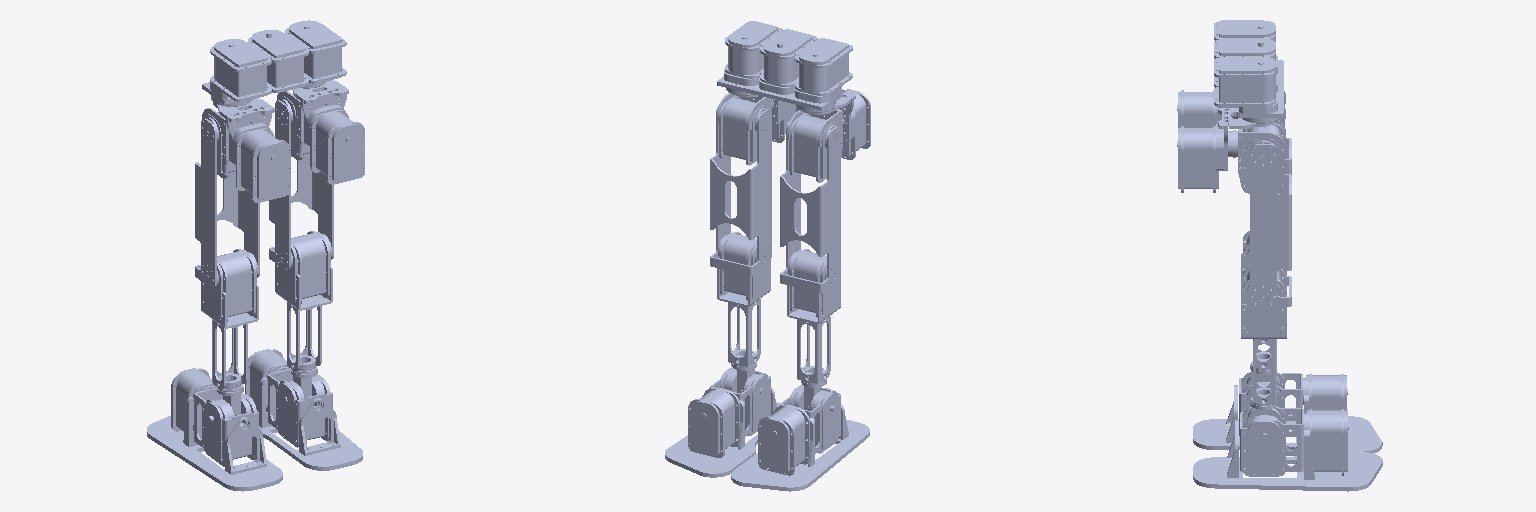
URDF robot description (UXALeg):
<?xml version="1.0"?>
<robot
  name="UXALeg">
  <link
    name="base_link_112210">
    <inertial>
      <origin
        xyz="-0.00691973742364693 -0.00720539335470267 -0.319392369133681"
        rpy="0 0 0" />
      <mass
        value="6.36839592430363" />
      <inertia
        ixx="0.315913715519811"
        ixy="0.000575539891669698"
        ixz="0.00272542117602269"
        iyy="0.317627543393465"
        iyz="0.0531323612424899"
        izz="0.0468174334082142" />
    </inertial>
    <visual>
      <origin
        xyz="0 0 0"
        rpy="0 0 0" />
      <geometry>
        <mesh
          filename="package://UXALeg/meshes/base_link_112210.STL" />
      </geometry>
      <material
        name="">
        <color
          rgba="0.792156862745098 0.819607843137255 0.933333333333333 1" />
      </material>
    </visual>
    <collision>
      <origin
        xyz="0 0 0"
        rpy="0 0 0" />
      <geometry>
        <mesh
          filename="package://UXALeg/meshes/base_link_112210.STL" />
      </geometry>
    </collision>
  </link>

<link name="world"/>
<joint name="base_joint" type="fixed">
  <origin xyz="0 0 1" />
  <parent link="world"/>
  <child link="base_link_112210"/>
</joint>

  <link
    name="Link911">
    <inertial>
      <origin
        xyz="-0.259392369133681 0.0639197374236465 0.00686539335471209"
        rpy="0 0 0" />
      <mass
        value="6.36839592430363" />
      <inertia
        ixx="0.0468174334082142"
        ixy="-0.00272542117602307"
        ixz="-0.0531323612424899"
        iyy="0.315913715519811"
        iyz="0.000575539891669624"
        izz="0.317627543393465" />
    </inertial>
    <visual>
      <origin
        xyz="0 0 0"
        rpy="0 0 0" />
      <geometry>
        <mesh
          filename="package://UXALeg/meshes/Link911.STL" />
      </geometry>
      <material
        name="">
        <color
          rgba="0.792156862745098 0.819607843137255 0.933333333333333 1" />
      </material>
    </visual>
    <collision>
      <origin
        xyz="0 0 0"
        rpy="0 0 0" />
      <geometry>
        <mesh
          filename="package://UXALeg/meshes/Link911.STL" />
      </geometry>
    </collision>
  </link>

  <joint
    name="Joint11"
    type="revolute">
    <origin
      xyz="0.0569999999999999 -0.000339999999990568 -0.0600000000000002"
      rpy="1.5707963267949 -1.5707963267949 0" />
    <parent
      link="base_link_112210" />
    <child
      link="Link911" />
    <axis
      xyz="1 0 0" />
 <limit    upper="0.5" lower="-.5"   effort="2"  velocity="2" />
  </joint>
  <link
    name="Link79">
    <inertial>
      <origin
        xyz="-0.0638198916139288 -0.195497369133489 0.00686539335471209"
        rpy="0 0 0" />
      <mass
        value="6.36839592430363" />
      <inertia
        ixx="0.315913715519811"
        ixy="0.00272542117602269"
        ixz="-0.000575539891669698"
        iyy="0.0468174334082142"
        iyz="-0.0531323612424899"
        izz="0.317627543393465" />
    </inertial>
    <visual>
      <origin
        xyz="0 0 0"
        rpy="0 0 0" />
      <geometry>
        <mesh
          filename="package://UXALeg/meshes/Link79.STL" />
      </geometry>
      <material
        name="">
        <color
          rgba="0.792156862745098 0.819607843137255 0.933333333333333 1" />
      </material>
    </visual>
    <collision>
      <origin
        xyz="0 0 0"
        rpy="0 0 0" />
      <geometry>
        <mesh
          filename="package://UXALeg/meshes/Link79.STL" />
      </geometry>
    </collision>
  </link>
  <joint
    name="Joint9"
    type="revolute">
    <origin
      xyz="-0.0638950000001913 9.98458097179952E-05 0"
      rpy="0 0 -1.5707963267949" />
    <parent
      link="Link911" />
    <child
      link="Link79" />
    <axis
      xyz="0 0 1" />
 <limit    upper="0.5" lower="-.5"   effort="2"  velocity="2" />
  </joint>
  <link
    name="Link57">
    <inertial>
      <origin
        xyz="-0.0638198916139287 0.00686539335471211 0.195497369133489"
        rpy="0 0 0" />
      <mass
        value="6.36839592430363" />
      <inertia
        ixx="0.315913715519811"
        ixy="-0.0005755398916697"
        ixz="-0.00272542117602273"
        iyy="0.317627543393465"
        iyz="0.0531323612424899"
        izz="0.0468174334082142" />
    </inertial>
    <visual>
      <origin
        xyz="0 0 0"
        rpy="0 0 0" />
      <geometry>
        <mesh
          filename="package://UXALeg/meshes/Link57.STL" />
      </geometry>
      <material
        name="">
        <color
          rgba="0.792156862745098 0.819607843137255 0.933333333333333 1" />
      </material>
    </visual>
    <collision>
      <origin
        xyz="0 0 0"
        rpy="0 0 0" />
      <geometry>
        <mesh
          filename="package://UXALeg/meshes/Link57.STL" />
      </geometry>
    </collision>
  </link>
  <joint
    name="Joint7"
    type="revolute">
    <origin
      xyz="0 0 0"
      rpy="1.5707963267949 0 0" />
    <parent
      link="Link79" />
    <child
      link="Link57" />
    <axis
      xyz="1 0 0" />
 <limit    upper="0.5" lower="-.5"   effort="2"  velocity="2" />
  </joint>
  <link
    name="Link35">
    <inertial>
      <origin
        xyz="0.0145026308675864 0.0638198916139283 0.01116539335561"
        rpy="0 0 0" />
      <mass
        value="6.36839592430363" />
      <inertia
        ixx="0.0468174334082142"
        ixy="-0.00272542117602273"
        ixz="-0.0531323612424899"
        iyy="0.315913715519811"
        iyz="0.0005755398916697"
        izz="0.317627543393465" />
    </inertial>
    <visual>
      <origin
        xyz="0 0 0"
        rpy="0 0 0" />
      <geometry>
        <mesh
          filename="package://UXALeg/meshes/Link35.STL" />
      </geometry>
      <material
        name="">
        <color
          rgba="0.792156862745098 0.819607843137255 0.933333333333333 1" />
      </material>
    </visual>
    <collision>
      <origin
        xyz="0 0 0"
        rpy="0 0 0" />
      <geometry>
        <mesh
          filename="package://UXALeg/meshes/Link35.STL" />
      </geometry>
    </collision>
  </link>
  <joint
    name="Joint5"
    type="revolute">
    <origin
      xyz="0 -0.00430000000089791 0.210000000001076"
      rpy="1.5707963267949 1.5707963267949 3.141592654" />
    <parent
      link="Link57" />
    <child
      link="Link35" />
    <axis
      xyz="0 -1 0" />
 <limit    upper="0.5" lower="-.5"   effort="2"  velocity="2" />
  </joint>
  <link
    name="Link13">
    <inertial>
      <origin
        xyz="0.222502630867693 -0.0638198916139281 -0.0116638313797236"
        rpy="0 0 0" />
      <mass
        value="6.36839592430363" />
      <inertia
        ixx="0.0468174334082142"
        ixy="0.00272542117602272"
        ixz="0.0531323612424899"
        iyy="0.315913715519811"
        iyz="0.0005755398916697"
        izz="0.317627543393465" />
    </inertial>
    <visual>
      <origin
        xyz="0 0 0"
        rpy="0 0 0" />
      <geometry>
        <mesh
          filename="package://UXALeg/meshes/Link13.STL" />
      </geometry>
      <material
        name="">
        <color
          rgba="0.792156862745098 0.819607843137255 0.933333333333333 1" />
      </material>
    </visual>
    <collision>
      <origin
        xyz="0 0 0"
        rpy="0 0 0" />
      <geometry>
        <mesh
          filename="package://UXALeg/meshes/Link13.STL" />
      </geometry>
    </collision>
  </link>
  <joint
    name="Joint3"
    type="revolute">
    <origin
      xyz="-0.208000000000107 0 -0.000498438024113588"
      rpy="3.14159265358979 1.20370621524202E-31 -1.04404871487976E-47" />
    <parent
      link="Link35" />
    <child
      link="Link13" />
    <axis
      xyz="0 1 0" />
 <limit    upper="0.5" lower="-.5"   effort="2"  velocity="2" />
  </joint>
  <link
    name="Link1">
    <inertial>
      <origin
        xyz="-0.0638198916139281 0.222502630867693 0.0116638313797236"
        rpy="0 0 0" />
      <mass
        value="6.36839592430363" />
      <inertia
        ixx="0.315913715519811"
        ixy="0.00272542117602273"
        ixz="-0.0005755398916697"
        iyy="0.0468174334082142"
        iyz="-0.0531323612424899"
        izz="0.317627543393465" />
    </inertial>
    <visual>
      <origin
        xyz="0 0 0"
        rpy="0 0 0" />
      <geometry>
        <mesh
          filename="package://UXALeg/meshes/Link1.STL" />
      </geometry>
      <material
        name="">
        <color
          rgba="0.792156862745098 0.819607843137255 0.933333333333333 1" />
      </material>
    </visual>
    <collision>
      <origin
        xyz="0 0 0"
        rpy="0 0 0" />
      <geometry>
        <mesh
          filename="package://UXALeg/meshes/Link1.STL" />
      </geometry>
    </collision>
  </link>
  <joint
    name="Joint1"
    type="revolute">
    <origin
      xyz="0 0 0"
      rpy="-3.14159265358979 -8.67361737988404E-17 1.5707963267949" />
    <parent
      link="Link13" />
    <child
      link="Link1" />
    <axis
      xyz="0 0 1" />
 <limit    upper="0.5" lower="-.5"   effort="2"  velocity="2" />
  </joint>
  <link
    name="Link810">
    <inertial>
      <origin
        xyz="-0.259392369133681 -0.0500802625763536 0.00686539335471307"
        rpy="0 0 0" />
      <mass
        value="6.36839592430363" />
      <inertia
        ixx="0.0468174334082142"
        ixy="-0.0027254211760231"
        ixz="-0.0531323612424899"
        iyy="0.315913715519811"
        iyz="0.000575539891669625"
        izz="0.317627543393465" />
    </inertial>
    <visual>
      <origin
        xyz="0 0 0"
        rpy="0 0 0" />
      <geometry>
        <mesh
          filename="package://UXALeg/meshes/Link810.STL" />
      </geometry>
      <material
        name="">
        <color
          rgba="0.792156862745098 0.819607843137255 0.933333333333333 1" />
      </material>
    </visual>
    <collision>
      <origin
        xyz="0 0 0"
        rpy="0 0 0" />
      <geometry>
        <mesh
          filename="package://UXALeg/meshes/Link810.STL" />
      </geometry>
    </collision>
  </link>
  <joint
    name="Joint10"
    type="revolute">
    <origin
      xyz="-0.0570000000000001 -0.000339999999989604 -0.0599999999999996"
      rpy="1.5707963267949 -1.5707963267949 0" />
    <parent
      link="base_link_112210" />
    <child
      link="Link810" />
    <axis
      xyz="1 0 0" />
 <limit    upper="0.5" lower="-.5"   effort="2"  velocity="2" />
  </joint>
  <link
    name="Link68">
    <inertial>
      <origin
        xyz="0.0501801083860709 -0.19549736913349 0.00686539335471307"
        rpy="0 0 0" />
      <mass
        value="6.36839592430363" />
      <inertia
        ixx="0.315913715519811"
        ixy="0.00272542117602273"
        ixz="-0.0005755398916697"
        iyy="0.0468174334082142"
        iyz="-0.0531323612424899"
        izz="0.317627543393465" />
    </inertial>
    <visual>
      <origin
        xyz="0 0 0"
        rpy="0 0 0" />
      <geometry>
        <mesh
          filename="package://UXALeg/meshes/Link68.STL" />
      </geometry>
      <material
        name="">
        <color
          rgba="0.792156862745098 0.819607843137255 0.933333333333333 1" />
      </material>
    </visual>
    <collision>
      <origin
        xyz="0 0 0"
        rpy="0 0 0" />
      <geometry>
        <mesh
          filename="package://UXALeg/meshes/Link68.STL" />
      </geometry>
    </collision>
  </link>
  <joint
    name="Joint8"
    type="revolute">
    <origin
      xyz="-0.0638950000001912 9.98458097175581E-05 0"
      rpy="0 0 -1.5707963267949" />
    <parent
      link="Link810" />
    <child
      link="Link68" />
    <axis
      xyz="0 0 1" />
 <limit    upper="0.5" lower="-.5"   effort="2"  velocity="2" />
  </joint>
  <link
    name="Link46">
    <inertial>
      <origin
        xyz="0.0501801083860709 0.00686539335471309 0.19549736913349"
        rpy="0 0 0" />
      <mass
        value="6.36839592430363" />
      <inertia
        ixx="0.315913715519811"
        ixy="-0.000575539891669694"
        ixz="-0.00272542117602272"
        iyy="0.317627543393465"
        iyz="0.0531323612424899"
        izz="0.0468174334082142" />
    </inertial>
    <visual>
      <origin
        xyz="0 0 0"
        rpy="0 0 0" />
      <geometry>
        <mesh
          filename="package://UXALeg/meshes/Link46.STL" />
      </geometry>
      <material
        name="">
        <color
          rgba="0.792156862745098 0.819607843137255 0.933333333333333 1" />
      </material>
    </visual>
    <collision>
      <origin
        xyz="0 0 0"
        rpy="0 0 0" />
      <geometry>
        <mesh
          filename="package://UXALeg/meshes/Link46.STL" />
      </geometry>
    </collision>
  </link>
  <joint
    name="Joint6"
    type="revolute">
    <origin
      xyz="0 0 0"
      rpy="1.5707963267949 0 0" />
    <parent
      link="Link68" />
    <child
      link="Link46" />
    <axis
      xyz="1 0 0" />
 <limit    upper="0.5" lower="-.5"   effort="2"  velocity="2" />
  </joint>
  <link
    name="Link24">
    <inertial>
      <origin
        xyz="0.0501801083860708 0.0145026308675875 0.011165393355615"
        rpy="0 0 0" />
      <mass
        value="6.36839592430363" />
      <inertia
        ixx="0.315913715519811"
        ixy="0.00272542117602271"
        ixz="-0.000575539891669695"
        iyy="0.0468174334082142"
        iyz="-0.0531323612424899"
        izz="0.317627543393465" />
    </inertial>
    <visual>
      <origin
        xyz="0 0 0"
        rpy="0 0 0" />
      <geometry>
        <mesh
          filename="package://UXALeg/meshes/Link24.STL" />
      </geometry>
      <material
        name="">
        <color
          rgba="0.792156862745098 0.819607843137255 0.933333333333333 1" />
      </material>
    </visual>
    <collision>
      <origin
        xyz="0 0 0"
        rpy="0 0 0" />
      <geometry>
        <mesh
          filename="package://UXALeg/meshes/Link24.STL" />
      </geometry>
    </collision>
  </link>
  <joint
    name="Joint4"
    type="revolute">
    <origin
      xyz="0 -0.00430000000090187 0.210000000001077"
      rpy="-1.5707963267949 0 0" />
    <parent
      link="Link46" />
    <child
      link="Link24" />
    <axis
      xyz="1 0 0" />
 <limit    upper="0.5" lower="-.5"   effort="2"  velocity="2" />
  </joint>
  <link
    name="Link02">
    <inertial>
      <origin
        xyz="0.223502630867588 0.0501801083860706 -0.0106669553315073"
        rpy="0 0 0" />
      <mass
        value="6.36839592430363" />
      <inertia
        ixx="0.0468174334082142"
        ixy="0.00272542117602418"
        ixz="0.0531323612424898"
        iyy="0.315913715519811"
        iyz="0.000575539891669747"
        izz="0.317627543393465" />
    </inertial>
    <visual>
      <origin
        xyz="0 0 0"
        rpy="0 0 0" />
      <geometry>
        <mesh
          filename="package://UXALeg/meshes/Link02.STL" />
      </geometry>
      <material
        name="">
        <color
          rgba="0.792156862745098 0.819607843137255 0.933333333333333 1" />
      </material>
    </visual>
    <collision>
      <origin
        xyz="0 0 0"
        rpy="0 0 0" />
      <geometry>
        <mesh
          filename="package://UXALeg/meshes/Link02.STL" />
      </geometry>
    </collision>
  </link>
  <joint
    name="Joint2"
    type="revolute">
    <origin
      xyz="0 -0.209 0.000498438024109114"
      rpy="-3.14159265358977 -1.95000406869207E-29 1.5707963267949" />
    <parent
      link="Link24" />
    <child
      link="Link02" />
    <axis
      xyz="0 1 0" />
 <limit    upper="0.5" lower="-.5"   effort="2"  velocity="2" />
  </joint>
  <link
    name="Link0">
    <inertial>
      <origin
        xyz="-0.0501801083860707 -0.223502630867588 0.0106669553315058"
        rpy="0 0 0" />
      <mass
        value="6.36839592430363" />
      <inertia
        ixx="0.315913715519811"
        ixy="0.00272542117602287"
        ixz="0.000575539891669662"
        iyy="0.0468174334082142"
        iyz="0.0531323612424899"
        izz="0.317627543393465" />
    </inertial>
    <visual>
      <origin
        xyz="0 0 0"
        rpy="0 0 0" />
      <geometry>
        <mesh
          filename="package://UXALeg/meshes/Link0.STL" />
      </geometry>
      <material
        name="">
        <color
          rgba="0.792156862745098 0.819607843137255 0.933333333333333 1" />
      </material>
    </visual>
    <collision>
      <origin
        xyz="0 0 0"
        rpy="0 0 0" />
      <geometry>
        <mesh
          filename="package://UXALeg/meshes/Link0.STL" />
      </geometry>
    </collision>
  </link>
  <joint
    name="Joint0"
    type="revolute">
    <origin
      xyz="0 0 0"
      rpy="3.14159265358979 -2.81025203108243E-14 -1.5707963267949" />
    <parent
      link="Link02" />
    <child
      link="Link0" />
    <axis
      xyz="0 0 1" />
 <limit    upper="0.5" lower="-.5"   effort="2"  velocity="2" />
  </joint>
</robot>

--- Render facts (derived) ---
Views: 3 orthographic renders of the robot side by side, from view 1: azimuth 30°, elevation 25°; view 2: azimuth 150°, elevation 25°; view 3: azimuth 270°, elevation 25°.
Model UXALeg with 14 links and 13 joints (12 revolute, 1 fixed), rooted at world, posed every joint at zero.
Visible links, largest first — view 1: base_link_112210, Link0, Link24, Link35, Link46, Link810, Link911, Link1, Link57, Link02, Link13, Link79 (+1 smaller); view 2: base_link_112210, Link0, Link57, Link46, Link1, Link24, Link35, Link68, Link79, Link02, Link810, Link13 (+1 smaller); view 3: Link1, base_link_112210, Link57, Link0, Link13, Link911, Link35, Link79, Link02, Link810, Link24.
Boxes of the visible links, x1,y1,x2,y2 form: base_link_112210: [202, 20, 346, 106]; Link0: [147, 368, 282, 491]; Link24: [201, 249, 258, 415]; Link35: [275, 231, 332, 398]; Link46: [195, 117, 259, 288]; Link810: [213, 98, 290, 202]; Link911: [293, 80, 364, 184]; Link1: [245, 349, 362, 470]; Link57: [269, 99, 333, 270]; Link02: [194, 386, 258, 466]; Link13: [268, 367, 332, 447]; Link79: [277, 91, 309, 160]; base_link_112210: [717, 21, 852, 112]; Link0: [731, 388, 869, 491]; Link57: [710, 105, 771, 275]; Link46: [780, 121, 840, 292]; Link1: [665, 371, 779, 477]; Link24: [787, 249, 840, 410]; Link35: [717, 232, 770, 393]; Link68: [787, 109, 844, 182]; Link79: [717, 93, 773, 165]; Link02: [780, 385, 840, 453]; Link810: [798, 89, 870, 159]; Link13: [710, 367, 770, 436]; Link1: [1193, 409, 1382, 491]; base_link_112210: [1214, 20, 1283, 123]; Link57: [1250, 140, 1291, 307]; Link0: [1193, 374, 1382, 453]; Link13: [1240, 406, 1306, 476]; Link911: [1177, 108, 1274, 192]; Link35: [1241, 266, 1286, 415]; Link79: [1228, 120, 1285, 193]; Link02: [1239, 371, 1305, 436]; Link810: [1177, 90, 1221, 127]; Link24: [1241, 231, 1286, 381].
Size in the robot's own frame: 0.228 by 0.276 by 0.6113 metres.
Meshes: 13 distinct files referenced, 13 mesh visuals loaded (13 binary STL).